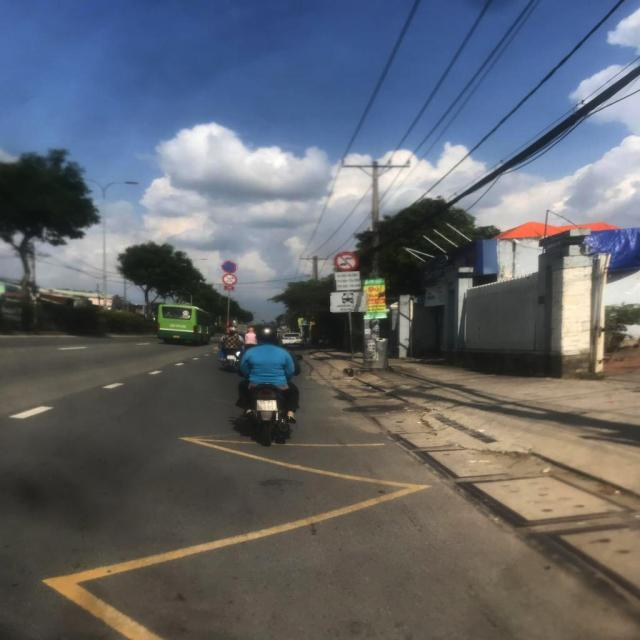cam_dung_xe_va_do_xe: (221, 260, 238, 273)
cam_o_to_tai_va_xe_khach: (333, 252, 360, 271)
cam_xe_2_banh_va_xe_3_banh_co_dong_co: (221, 274, 238, 286)
khac: (331, 290, 368, 312), (334, 272, 362, 290)
